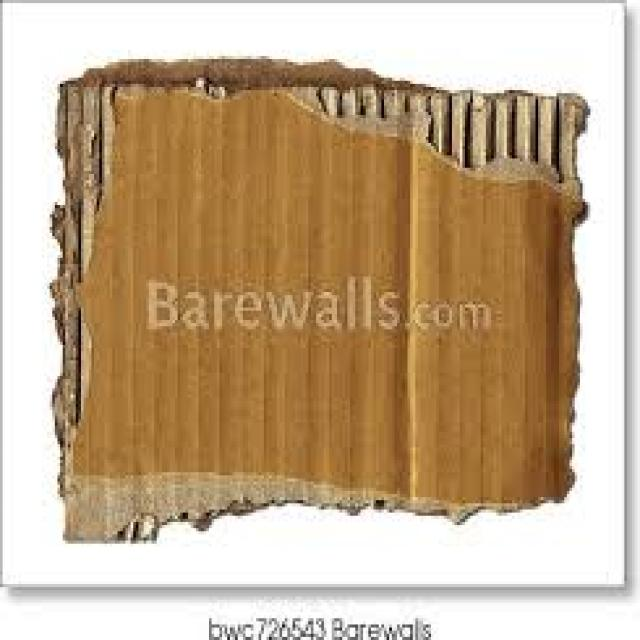cardboard: (50, 56, 588, 541)
